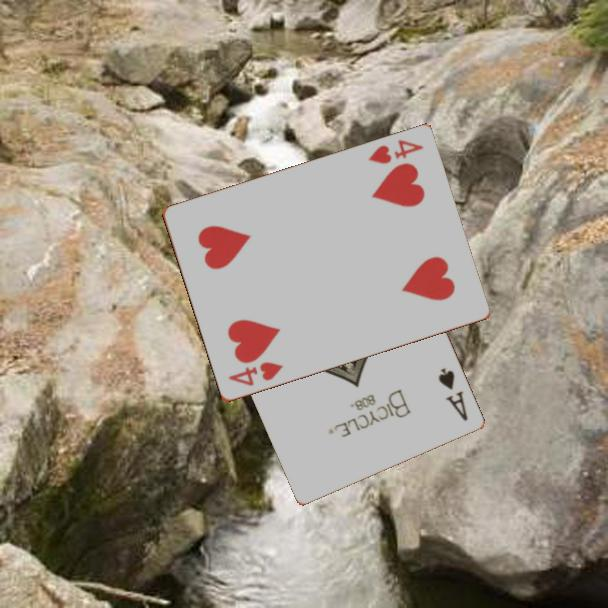h04: (224, 359, 286, 389), (364, 137, 426, 167)
s01: (435, 364, 471, 424)
